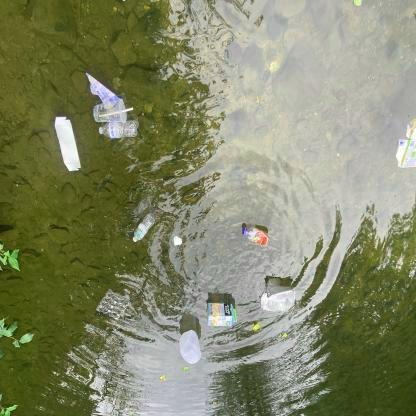Metal: (257, 280, 301, 316)
Plastic: (92, 101, 139, 141), (83, 72, 124, 111), (95, 287, 130, 322), (175, 329, 205, 366), (239, 221, 274, 249), (131, 212, 158, 245)
Trash: (50, 113, 84, 175)
